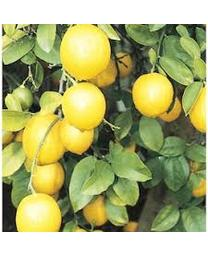lemon: (62, 25, 110, 80), (23, 114, 65, 164), (62, 84, 105, 129), (16, 194, 62, 233), (132, 73, 172, 115), (30, 162, 64, 195)
